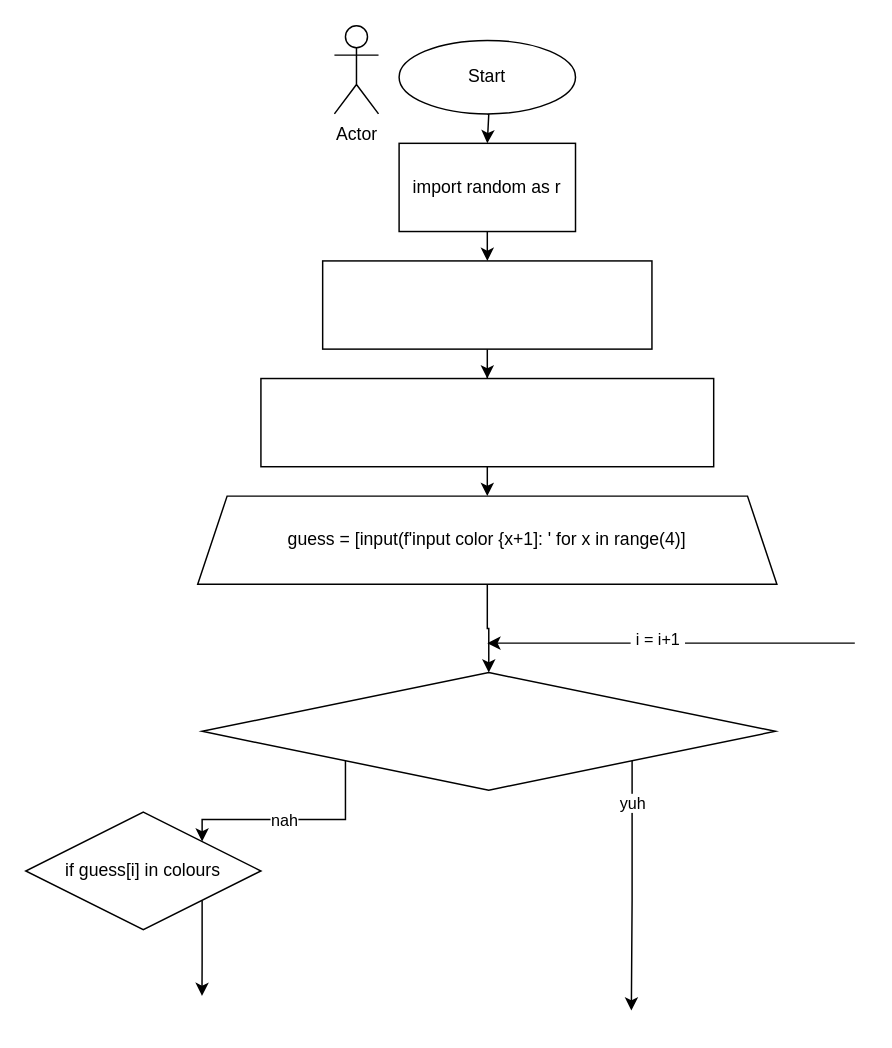
Image size: 892x1048. Some labels were removed from this diagram. Each missing label, with the centre of its shape:
"colours = [r.choice(possiblecolors) for x in range(4)]" belongs at [486,422].
"if guess[i] == colours[i]" belongs at [488,730].
"possiblecolors = [red,blue,green,yellow]" belongs at [486,304].
